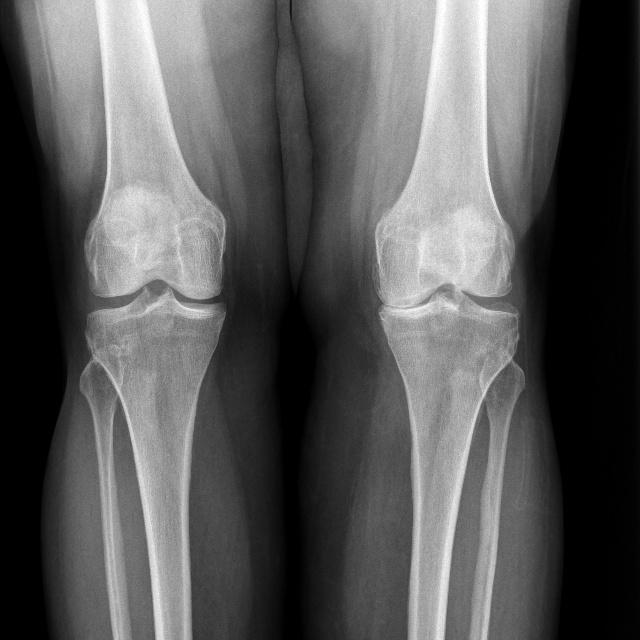Knee: (368, 235, 520, 377), (81, 229, 227, 364)
